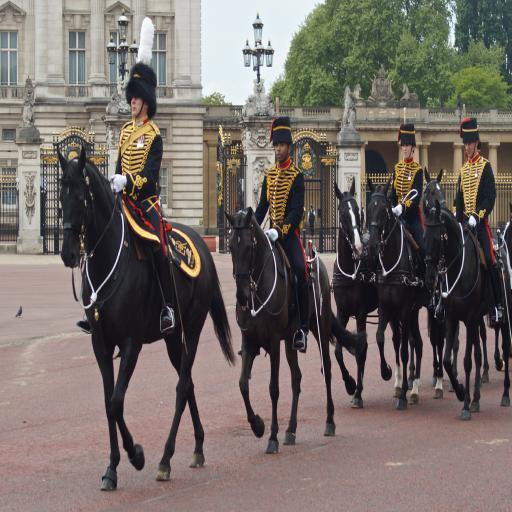horse: (54, 140, 240, 490), (220, 204, 371, 456), (418, 171, 511, 424), (327, 175, 401, 413), (366, 173, 432, 412), (494, 220, 512, 368)
